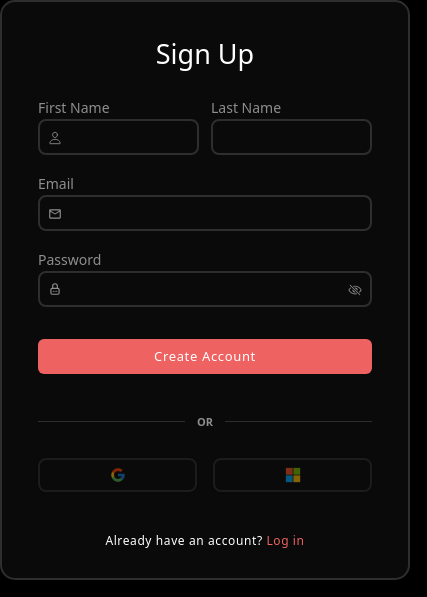
SignUpPage › Form Validation › validates password minimum length
In the password field labelled "Password": (205, 288) [38,270,372,306], type "123"
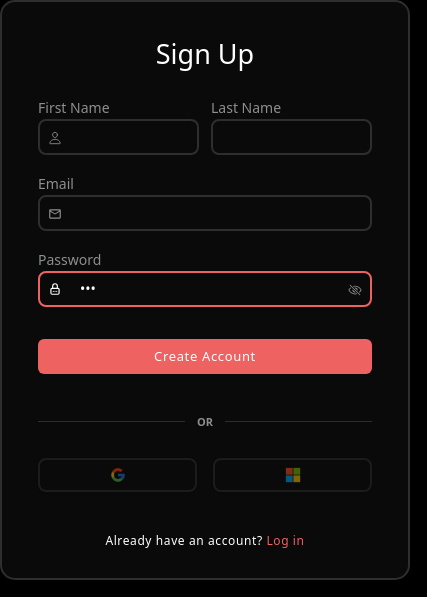
Click the button "Create Account": (205, 356) [38,338,372,374]
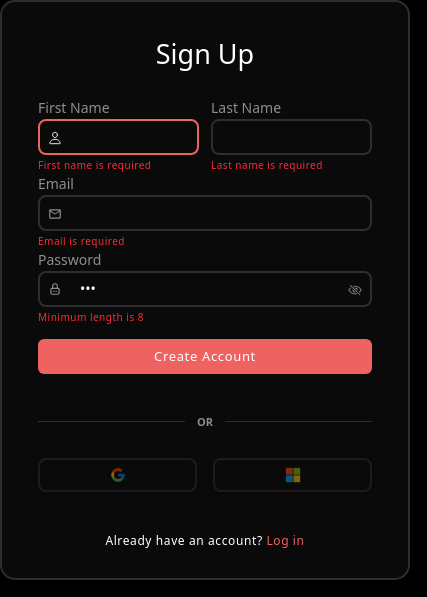
Now the text "Minimum length is 8" is shown, box [38,310,144,324]
